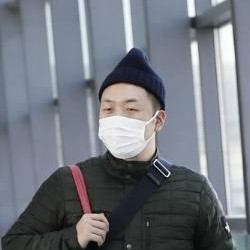mask: (95, 112, 159, 163)
